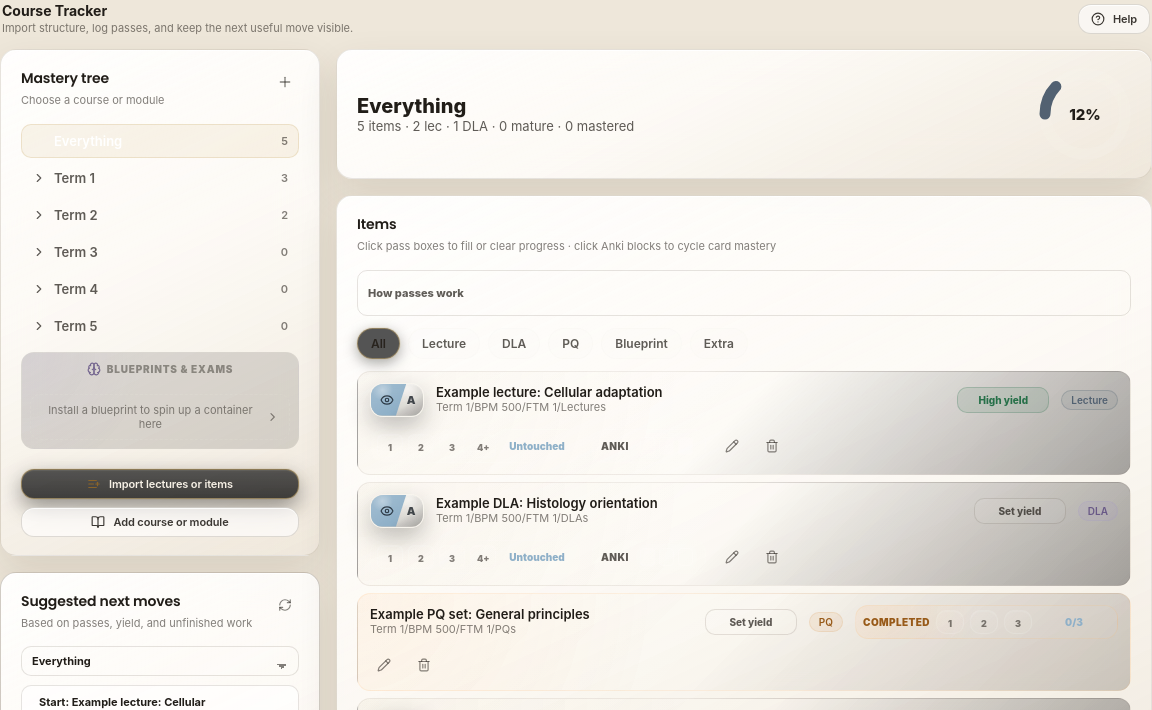
Scenario: Course Tracker comprehension layout › opens import and module workflows immediately
Click the button "Import lectures or items": [160, 484] box [21,468,299,498]
(page scrolled)
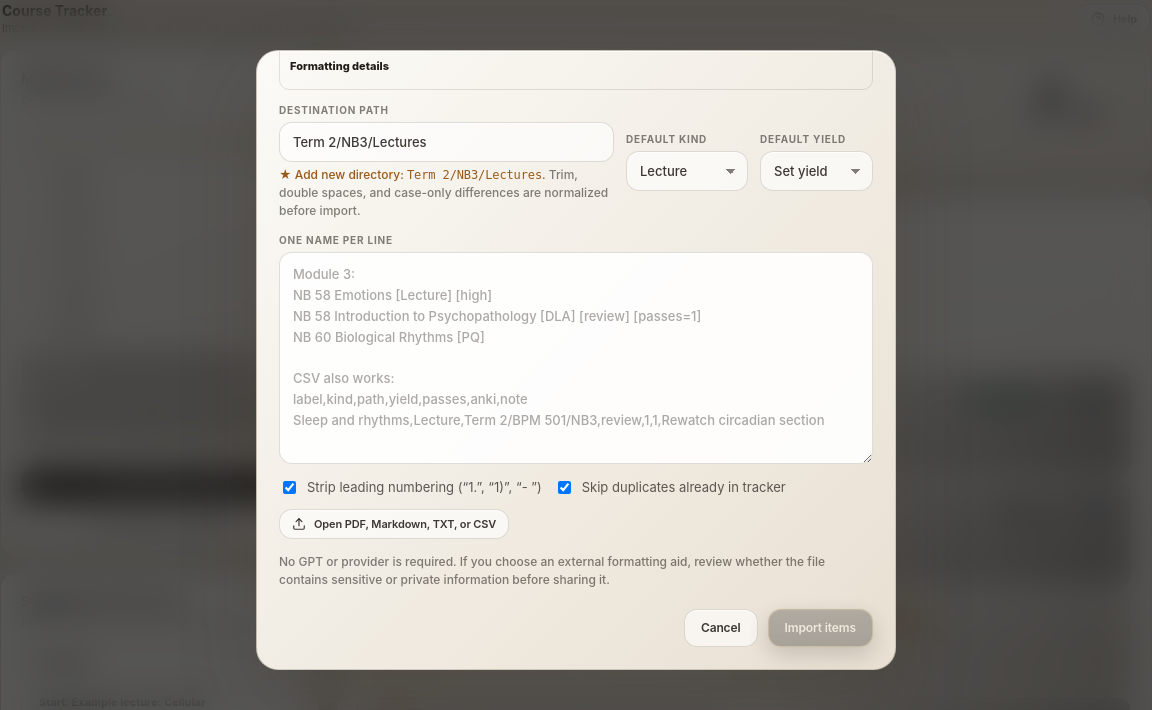
Expected: the dialog "Import tracker items" is shown, [256,50,896,670]
Expected: the text "sensitive or private information" is shown, [279,554,825,587]
Click the button "Cancel": [721, 628] box [684,609,758,647]
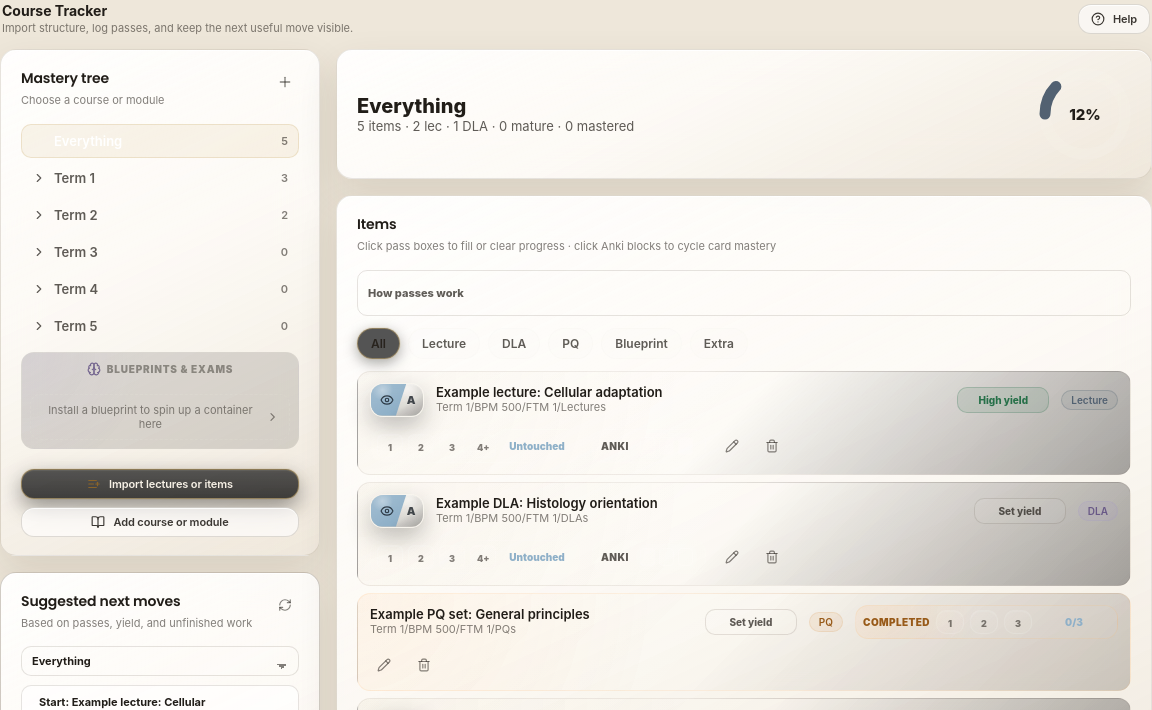
Click the button "Add course or module": [160, 522] box [21,506,299,536]
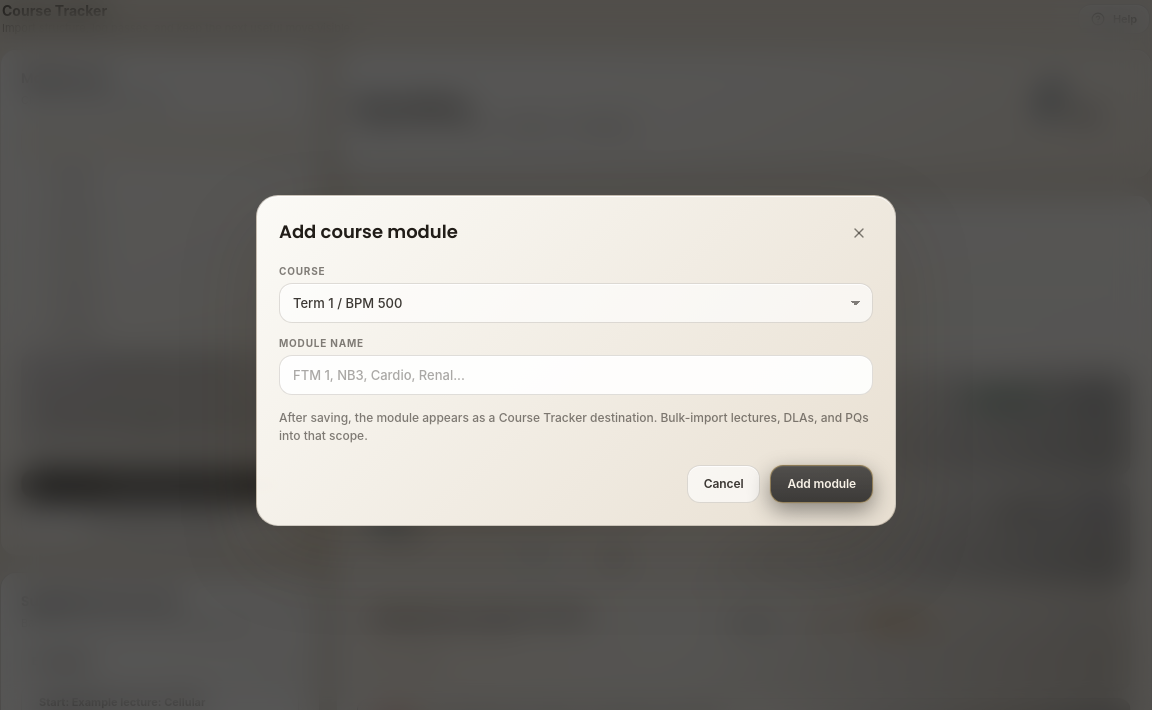
Expected: the dialog "Add course module" is shown, [256,194,896,526]
